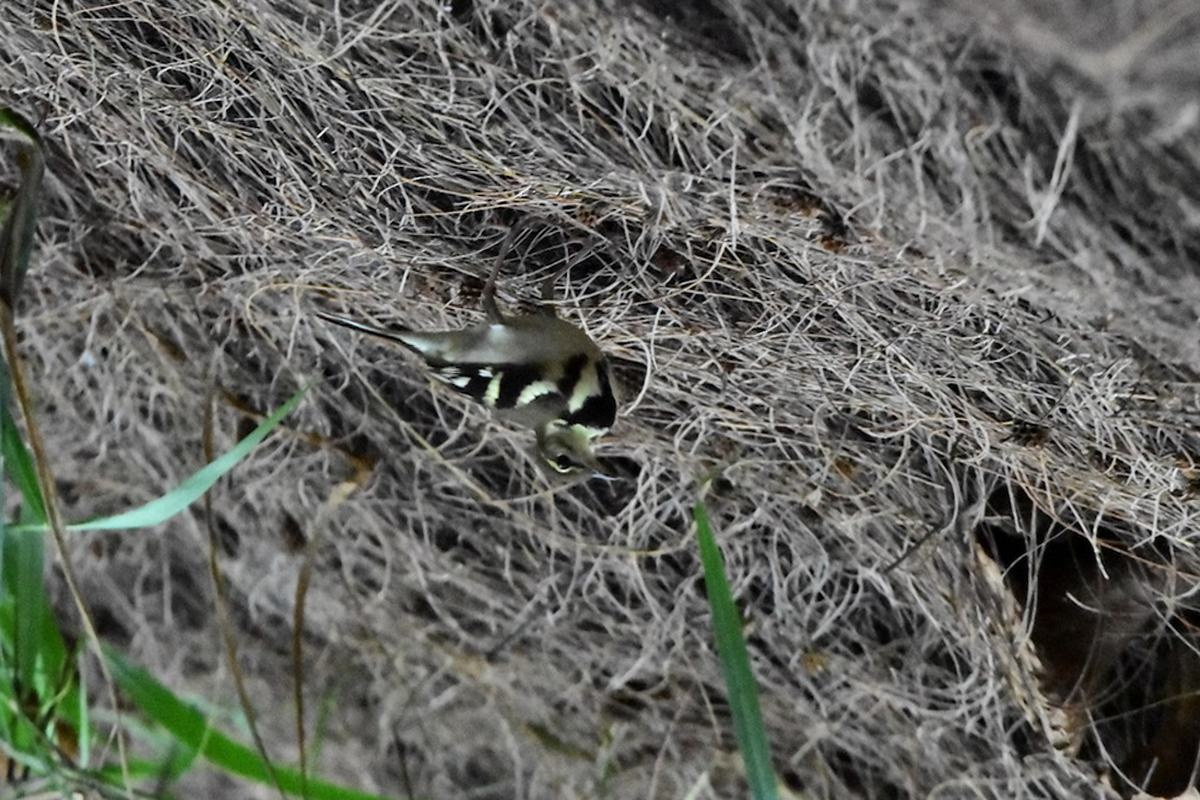wagtail: (326, 283, 645, 471)
